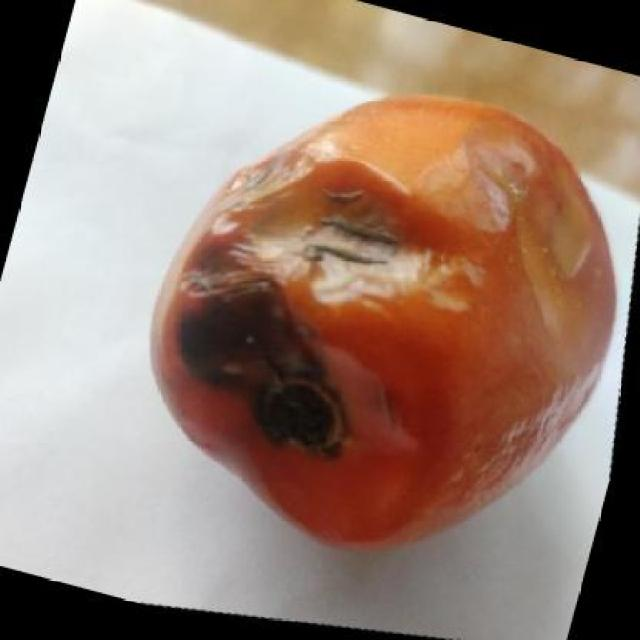overripe tomato: (138, 80, 626, 560)
